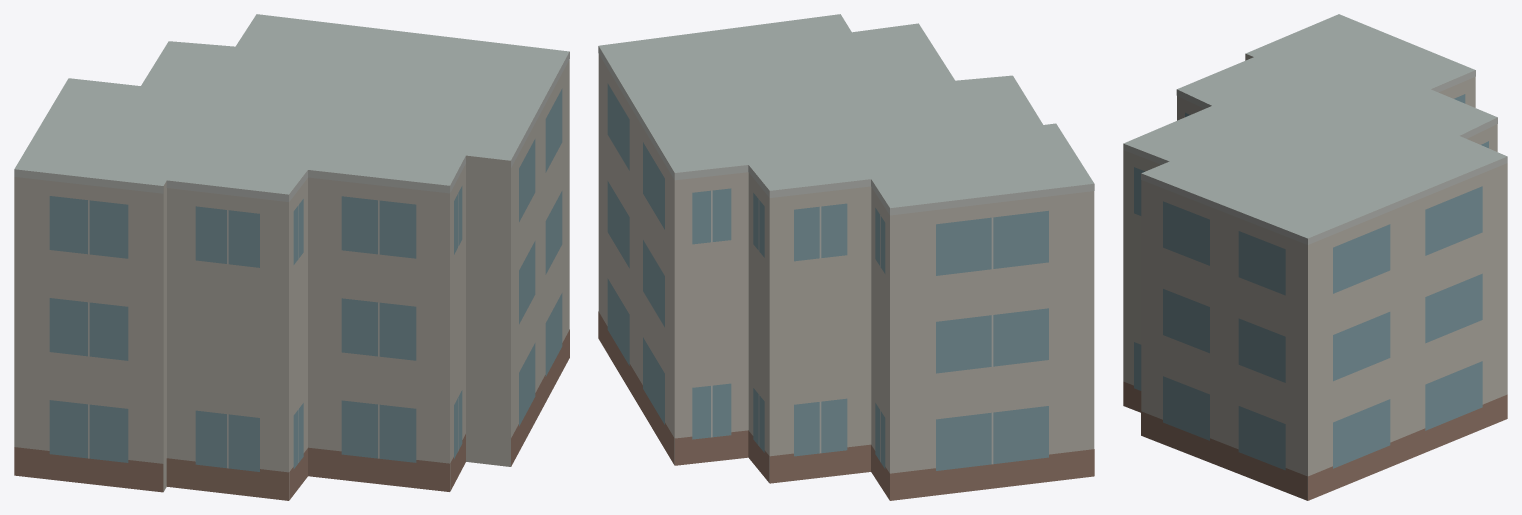
File: survey-upis-32670426.glb
3 renders of one model, left to right at view 1: azimuth 30°, elevation 25°; view 2: azimuth 150°, elevation 25°; view 3: azimuth 270°, elevation 25°, orthographic. The views are drawn at different scales.
Parts seen in each view (by area): view 1: survey-upis-32670426.tmp; view 2: survey-upis-32670426.tmp; view 3: survey-upis-32670426.tmp.
Boxes of the visible parts, x1,y1,x2,y2 form: survey-upis-32670426.tmp: (14, 14, 569, 500); survey-upis-32670426.tmp: (598, 14, 1094, 500); survey-upis-32670426.tmp: (1123, 14, 1507, 500).
Size of the model in its own units: 18 by 9.8 by 13.02.
